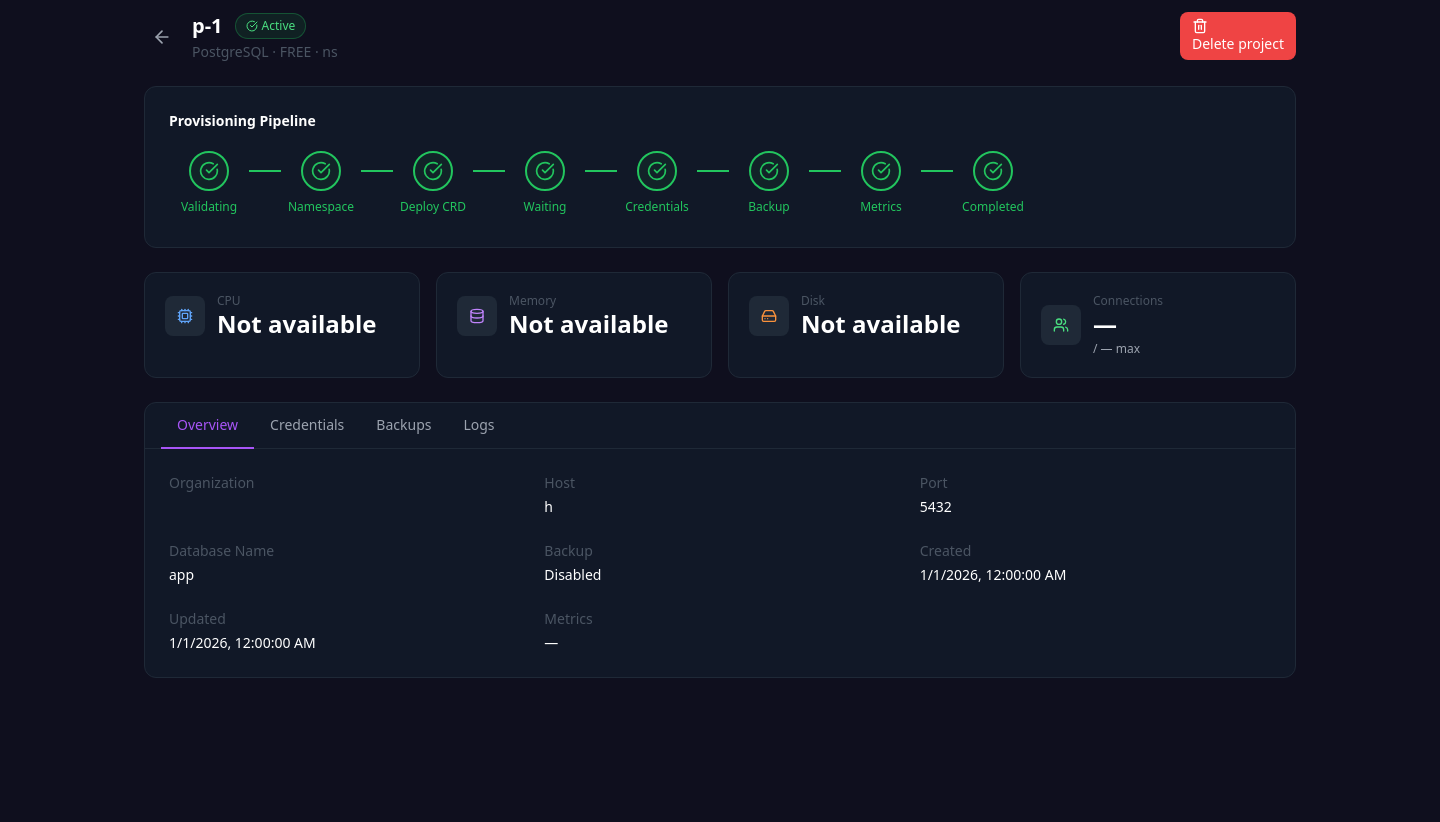
Test: InstanceDetailPage — trigger backup › a started backup says so
Click the button "backups" at (404, 426), box top-left (360, 403), bottom-right (447, 449)
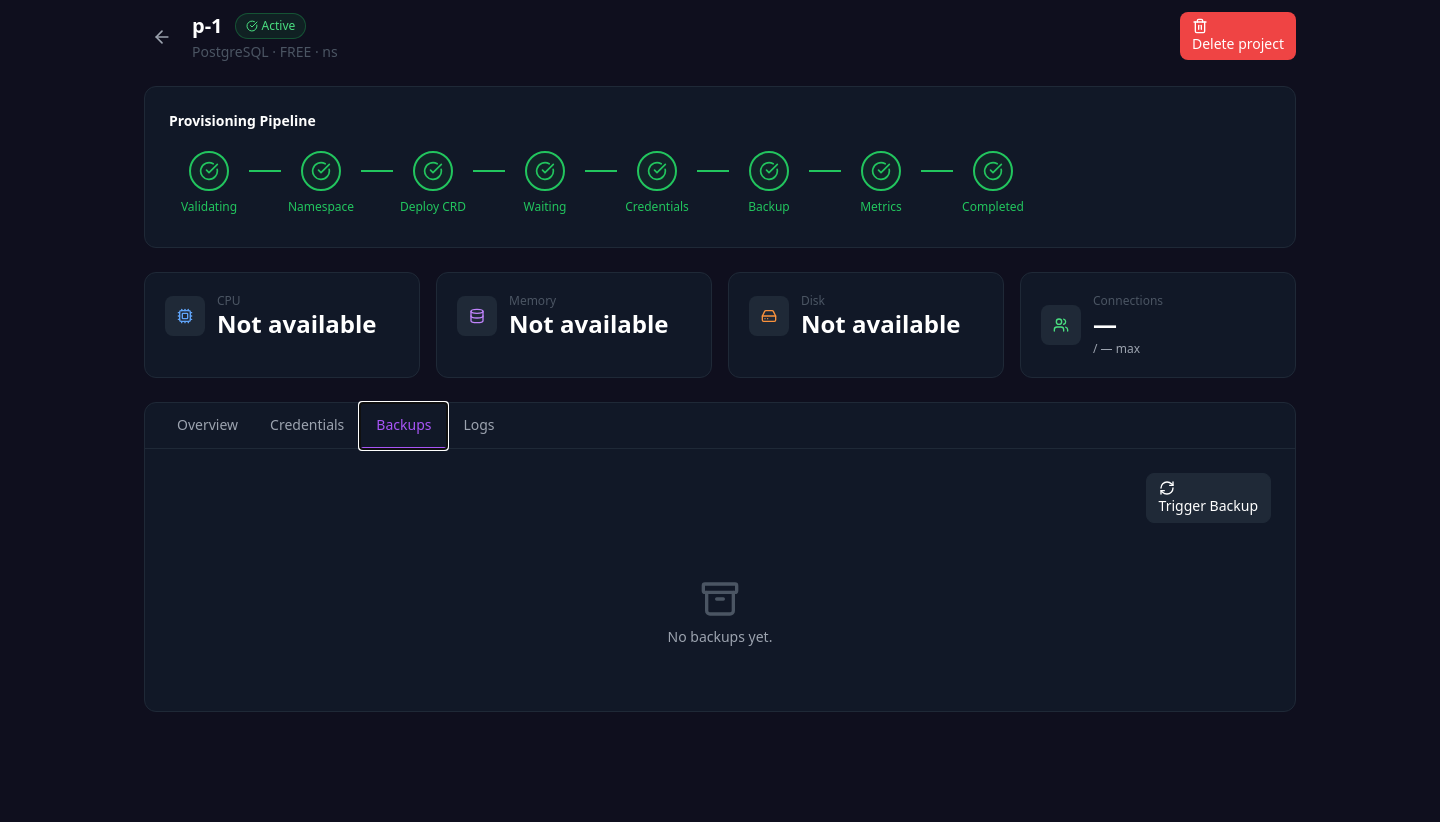
Click the button "Trigger Backup" at (1208, 498), box top-left (1146, 473), bottom-right (1271, 523)
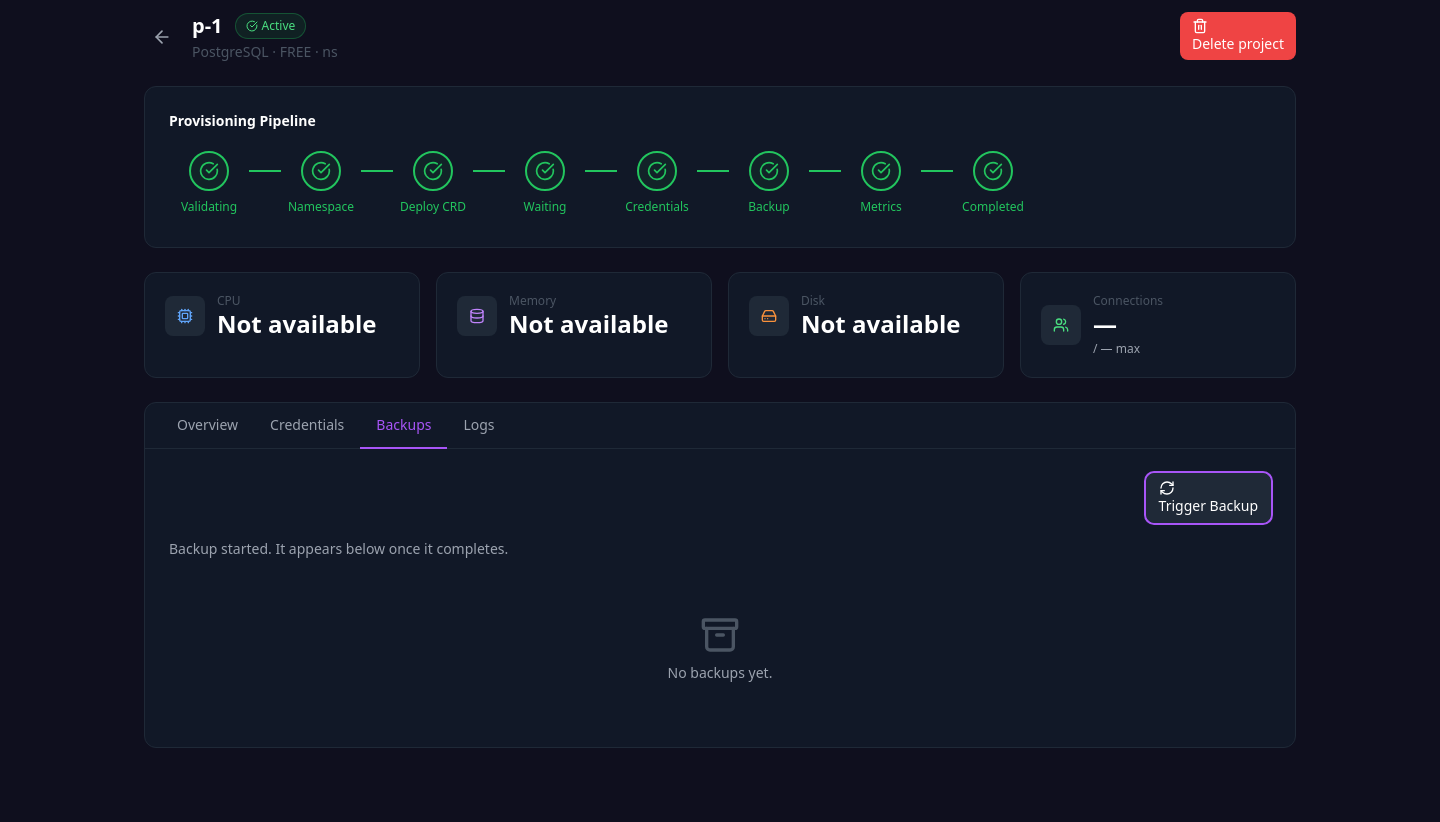
Now the message with test id "backup-trigger-result" shows "started", box top-left (169, 539), bottom-right (508, 558)
